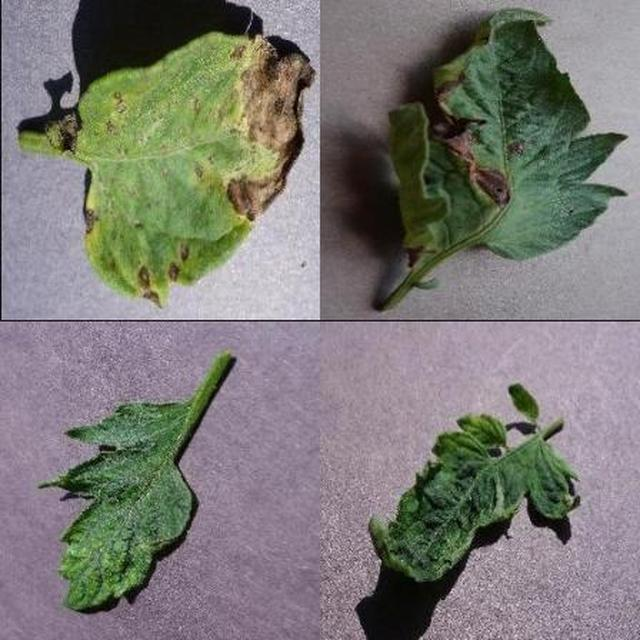Septoria Leaf: (166, 195, 640, 640)
